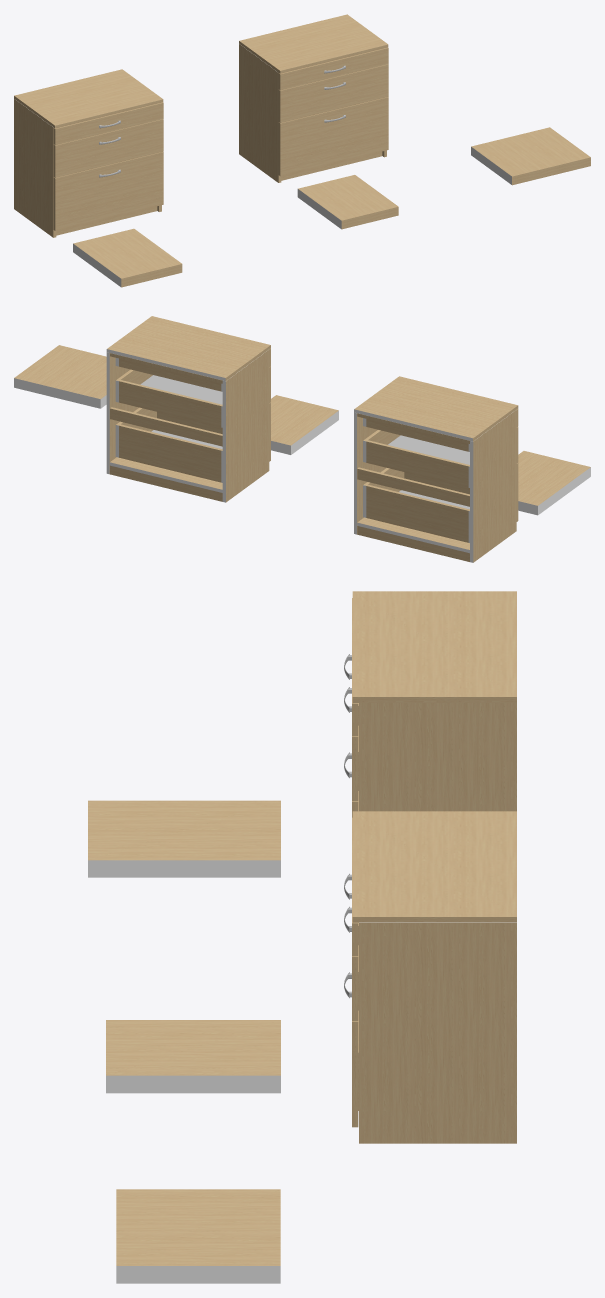
File: Comoda 700x700x460.gltf
3 renders of one model, top to bottom at view 1: azimuth 30°, elevation 25°; view 2: azimuth 150°, elevation 25°; view 3: azimuth 270°, elevation 25°, orthographic. The views are drawn at different scales.
Visible parts, largest first — view 1: root; view 2: root; view 3: root.
Part boxes in pixels (x1,y1,x2,y2): root: (14,14,590,287); root: (14,316,590,562); root: (88,591,516,1283).
Size of the model in its own units: 3.08 by 0.701 by 1.2.
4 materials, 2 textured.
